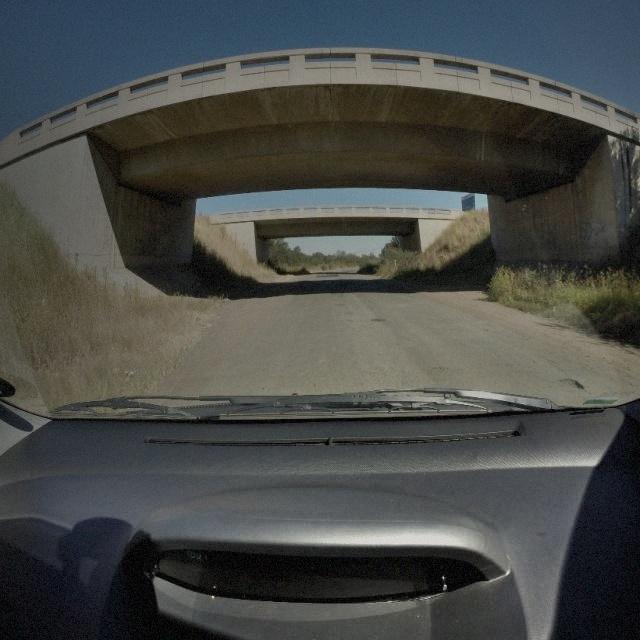pothole: (556, 375, 584, 389)
